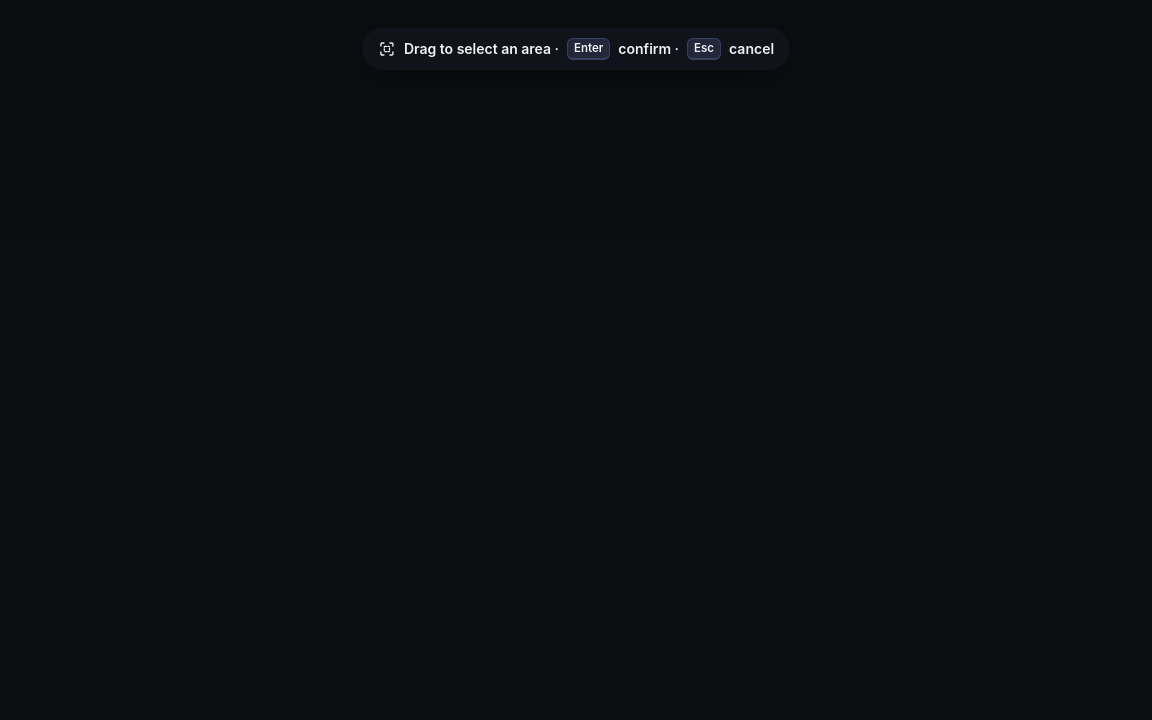
Region window › drags a selection and confirms it in physical pixels; Esc cancels
The image size is (1152, 720).
Later steps or results of the test are not shown.
Press the mouse on the element showing "Drag to select an area · Enter confirm · Esc cancel" at [576, 360], box [0,0,1151,719]
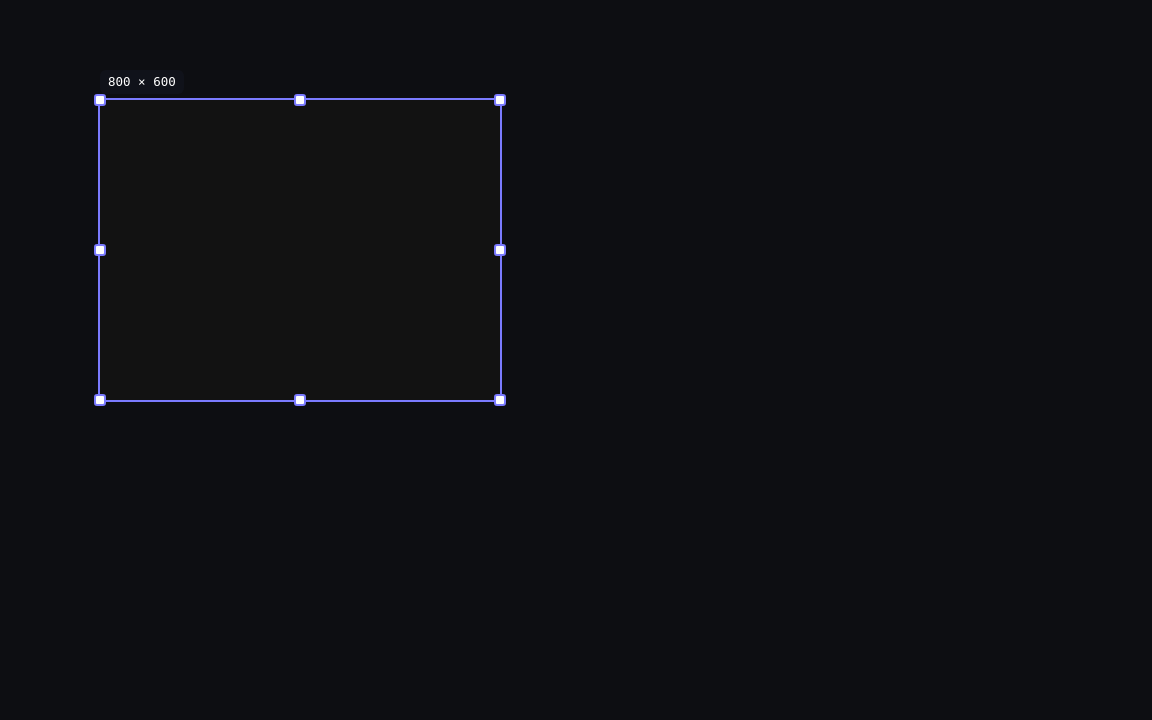
Expected: the text "800 × 600" is shown, [100,70,184,94]
